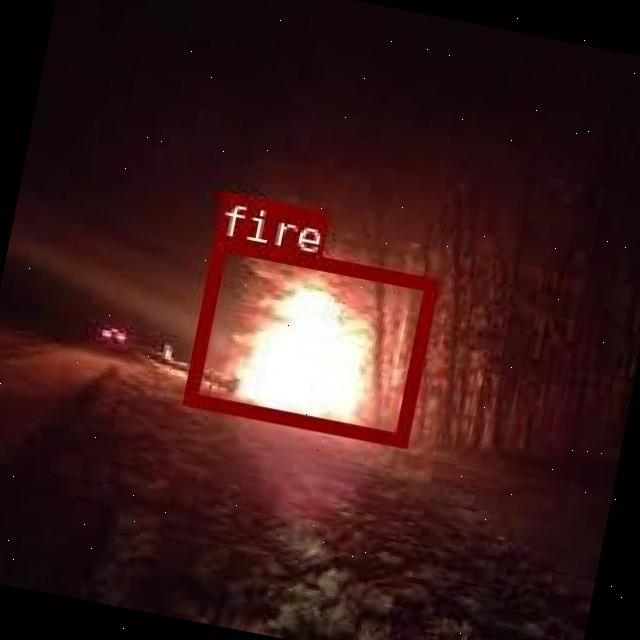fire: (182, 235, 435, 443)
